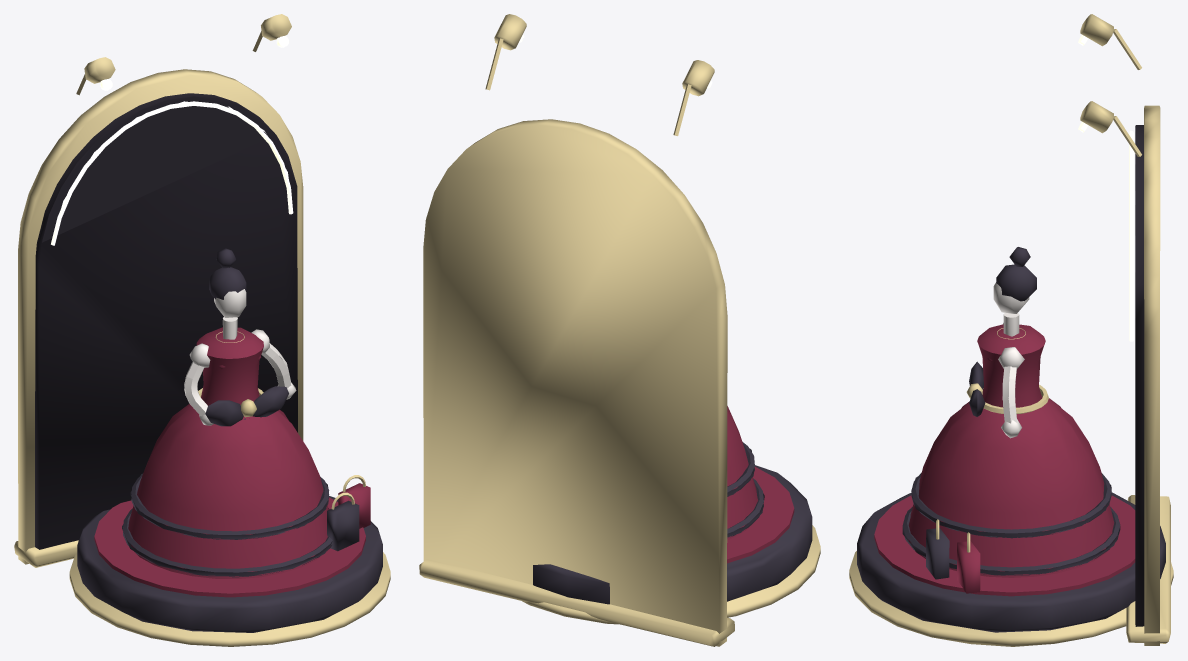
File: lite_mannequin_display.glb
3 views of the same model, side by side, from view 1: azimuth 30°, elevation 25°; view 2: azimuth 150°, elevation 25°; view 3: azimuth 270°, elevation 25° (orthographic). The views are drawn at different scales.
Parts seen in each view (by area): view 1: mannequin_display; view 2: mannequin_display; view 3: mannequin_display.
Boxes of the visible parts, box(x1,y1,x2,y2) form: mannequin_display: box(14, 14, 390, 646); mannequin_display: box(419, 14, 820, 646); mannequin_display: box(849, 14, 1173, 646).
Size of the model in its own units: 1.9 by 3.34 by 1.89.
